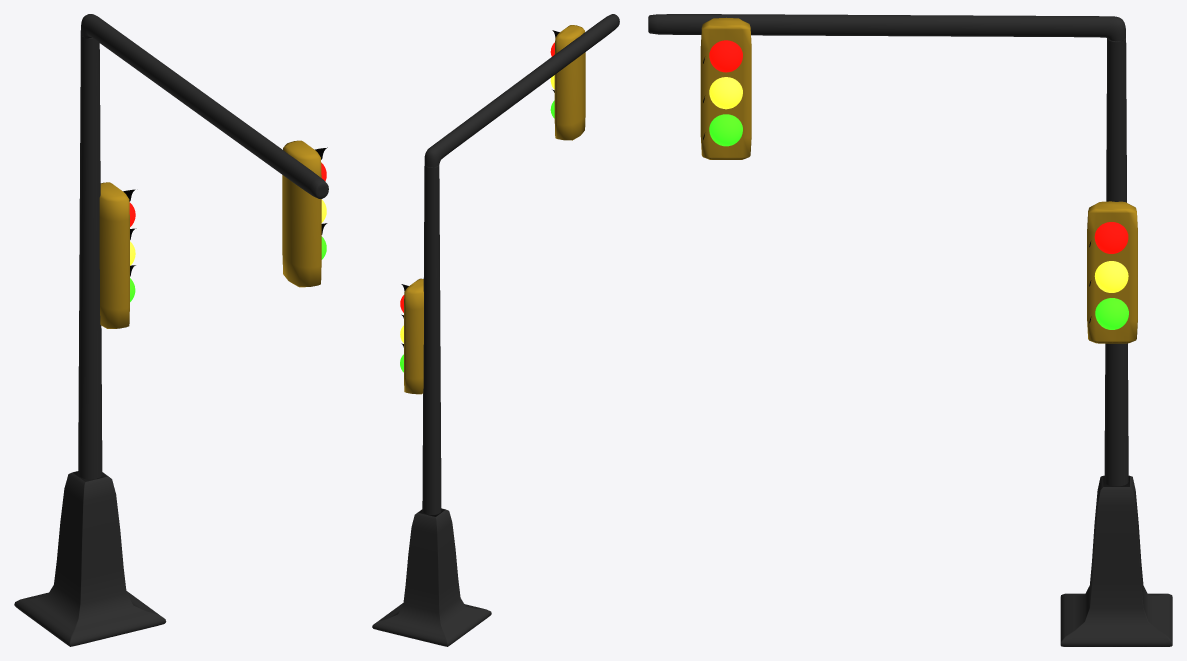
Rendered from Semaforo.fbx.
The picture shows the model from 3 angles, left to right: view 1: azimuth 30°, elevation 25°; view 2: azimuth 150°, elevation 25°; view 3: azimuth 270°, elevation 25°; orthographic projection. The views are drawn at different scales.
Visible parts, largest first — view 1: Poste, Base, Semaforo2, Semaforo; view 2: Poste, Base, Semaforo2, Semaforo; view 3: Poste, Base, Semaforo2, Semaforo, Luz_Verde, Luz_Amarilla, Luz_Roja.
Part boxes in pixels (x1=…): Poste: x1=78, y1=14, x2=328, y2=479; Base: x1=14, y1=471, x2=166, y2=646; Semaforo2: x1=282, y1=140, x2=327, y2=287; Semaforo: x1=99, y1=182, x2=136, y2=328; Poste: x1=422, y1=14, x2=619, y2=514; Base: x1=372, y1=508, x2=491, y2=646; Semaforo2: x1=552, y1=25, x2=585, y2=140; Semaforo: x1=401, y1=278, x2=423, y2=394; Poste: x1=648, y1=14, x2=1128, y2=486; Base: x1=1060, y1=475, x2=1172, y2=646; Semaforo2: x1=700, y1=17, x2=751, y2=159; Semaforo: x1=1087, y1=201, x2=1137, y2=343; Luz_Verde: x1=709, y1=114, x2=1128, y2=329; Luz_Amarilla: x1=709, y1=77, x2=1128, y2=292; Luz_Roja: x1=709, y1=40, x2=1128, y2=253.
Size of the model in its own units: 200 by 1200 by 935.
